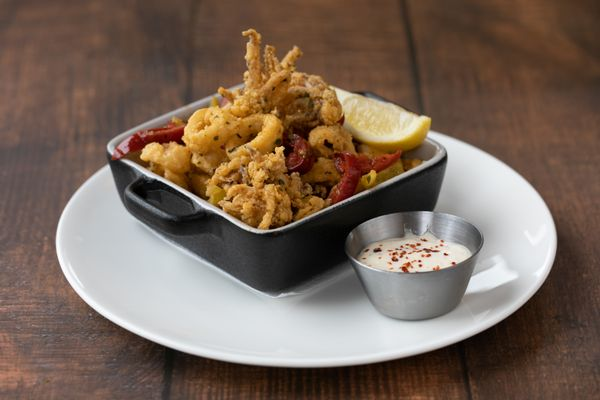sushi: (102, 35, 448, 295), (104, 116, 448, 294), (346, 209, 483, 320)
